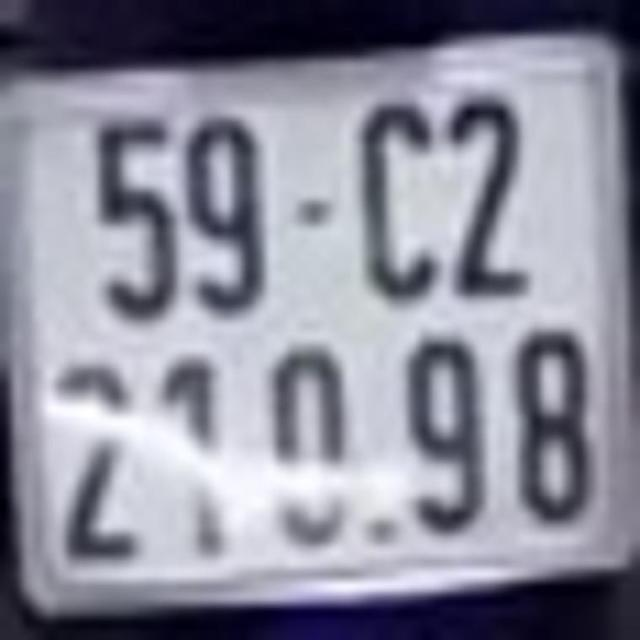0: (269, 341, 350, 546)
1: (159, 351, 230, 558)
2: (49, 355, 142, 564), (449, 95, 535, 300)
5: (92, 113, 181, 322)
8: (515, 325, 592, 526)
9: (185, 112, 268, 317), (407, 334, 486, 534)
C: (357, 97, 439, 300)
